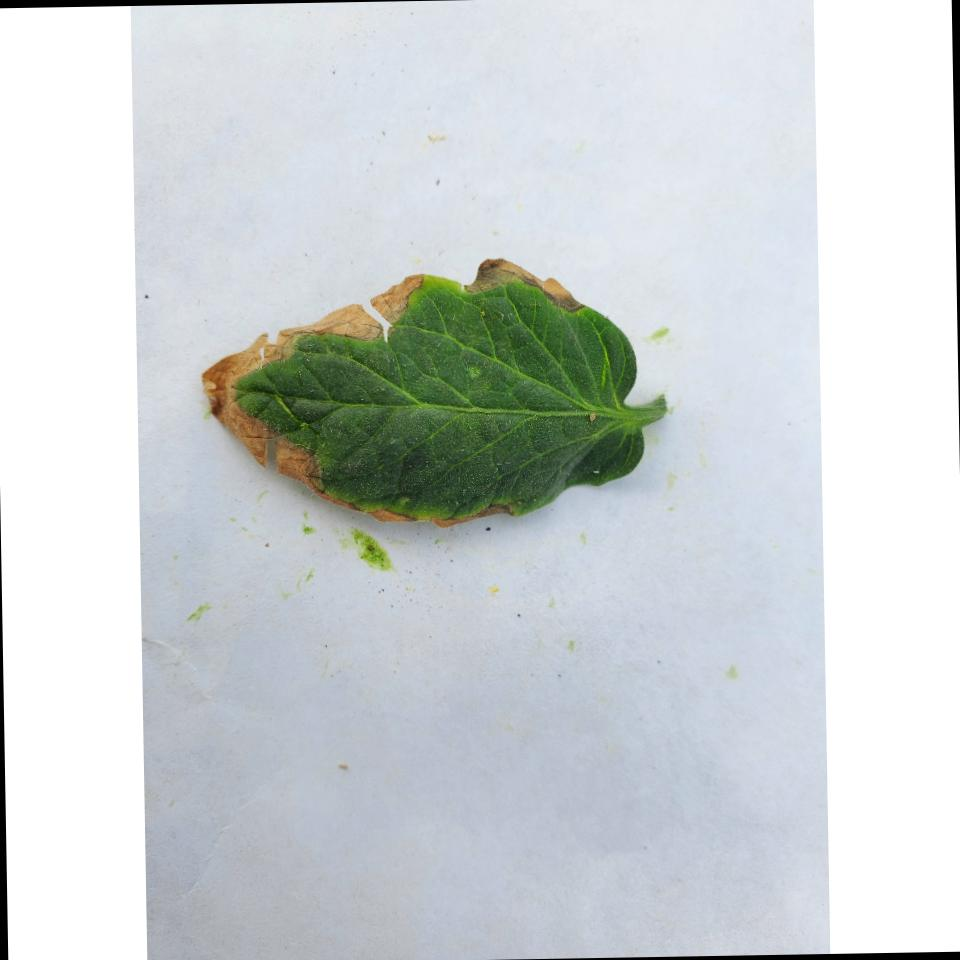tomato_bacterial_blight: (213, 250, 650, 510)
